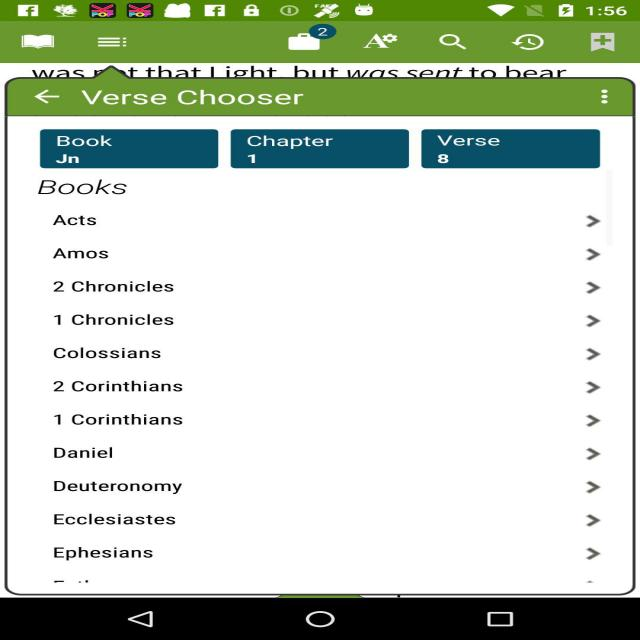icon: (278, 22, 342, 59), (86, 28, 153, 54), (11, 26, 70, 52), (437, 27, 487, 56), (360, 26, 408, 51), (502, 31, 562, 51), (583, 33, 631, 56), (583, 507, 621, 535), (582, 406, 614, 439), (578, 542, 617, 569), (566, 448, 614, 469), (574, 242, 609, 270), (584, 372, 623, 393), (578, 308, 607, 335), (578, 275, 614, 295), (582, 474, 611, 496), (574, 212, 609, 230), (582, 343, 604, 364)
image: (9, 78, 640, 596), (0, 20, 635, 60)
text: (80, 83, 331, 109), (230, 129, 396, 165), (50, 476, 248, 499), (48, 411, 250, 433), (48, 538, 218, 564), (434, 133, 548, 169), (36, 177, 180, 205), (52, 341, 210, 366), (44, 138, 187, 165), (48, 375, 204, 398), (48, 444, 194, 468), (48, 308, 236, 325), (50, 514, 244, 530), (54, 276, 198, 296), (48, 239, 153, 261), (56, 214, 135, 229)
